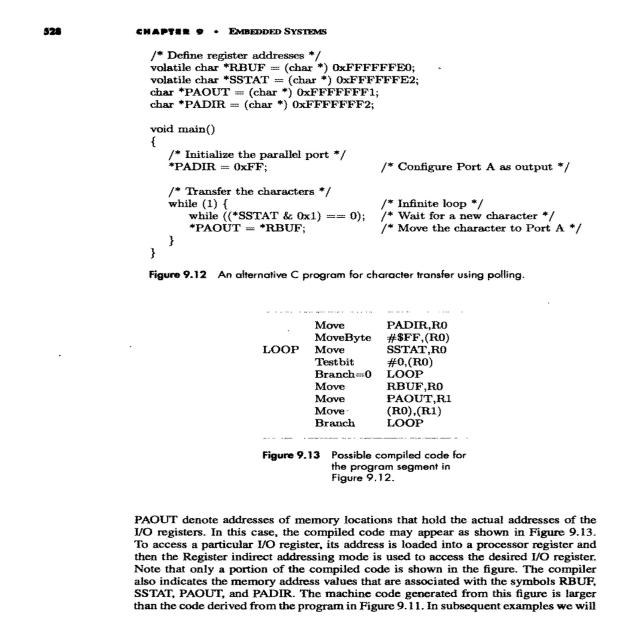diagram: (177, 314, 550, 500)
